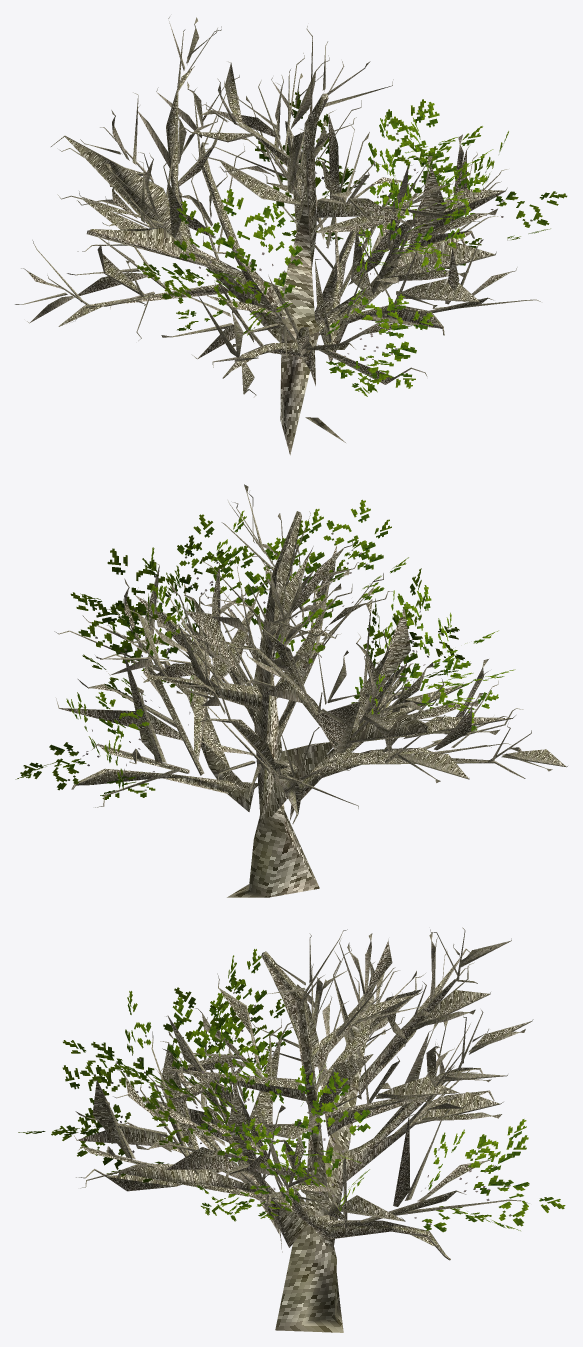
Rendered from tree_oak_lo.glb.
The picture shows the model from 3 angles, top to bottom: view 1: azimuth 30°, elevation 25°; view 2: azimuth 150°, elevation 25°; view 3: azimuth 270°, elevation 25°; orthographic projection.
Visible parts, largest first — view 1: m; view 2: m; view 3: m.
Boxes of the visible parts, x1,y1,x2,y2 form: m: [15, 17, 567, 455]; m: [15, 484, 567, 897]; m: [18, 927, 565, 1332].
Bounding box in the file's own units: 1.25 × 0.9135 × 1.15.
2 materials, 2 textured.
